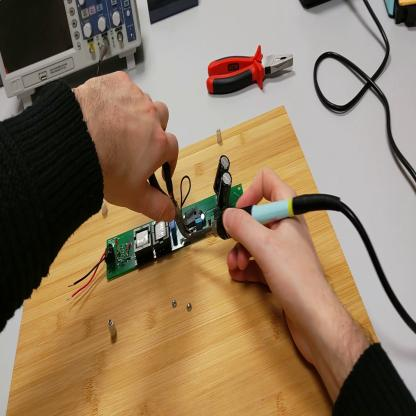hand: (224, 167, 329, 362), (66, 72, 181, 228)
high voltage board: (69, 154, 244, 299)
oscilloscope: (2, 2, 143, 108)
pliers: (208, 49, 298, 99), (151, 160, 184, 227)
socket: (301, 2, 331, 11)
welder base: (385, 2, 416, 29)
welder probe tip: (184, 192, 343, 238)
working area: (8, 103, 388, 414)
